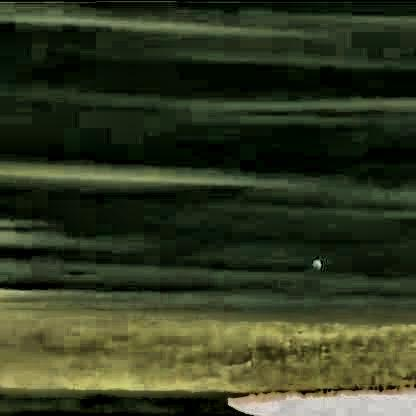golfball: (308, 254, 319, 267)
